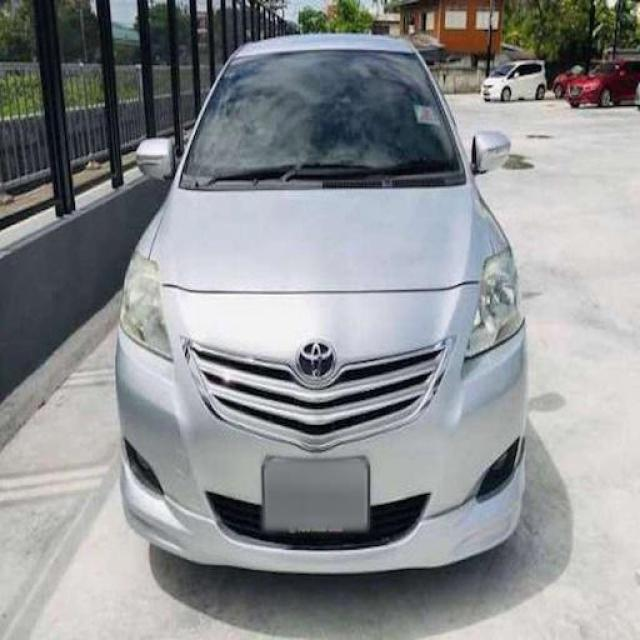front_bumper: (116, 281, 528, 574)
front_glass: (177, 51, 468, 193)
front_left_light: (466, 244, 523, 361)
front_right_light: (121, 250, 174, 361)
hood: (149, 186, 494, 292)
left_mirror: (471, 133, 513, 176)
right_mirror: (136, 138, 176, 184)
